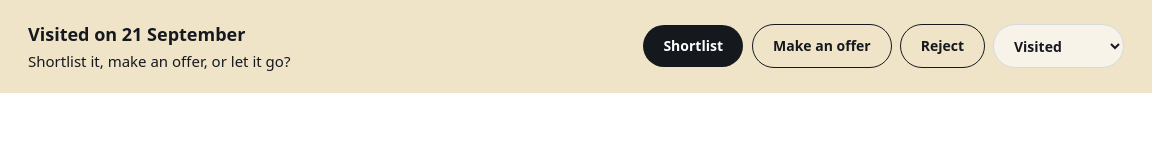
Test case: while saving, the card already reads like the new status
Click the button "Shortlist" at (693, 46), box 642,24 -> 744,68
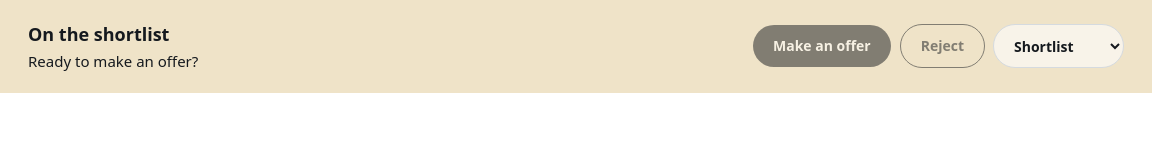
Expected: the text "On the shortlist" is shown, 28,22 -> 169,46
Expected: the dropdown named "Status" shows "Shortlist", 993,24 -> 1124,68
